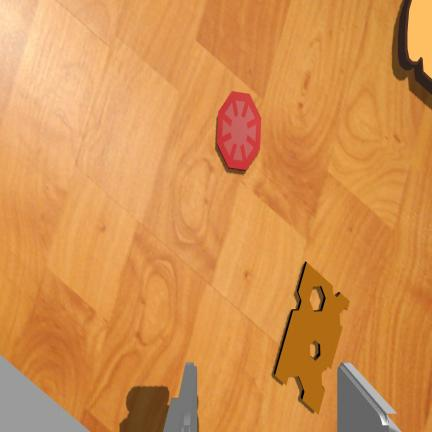cheese: (274, 262, 349, 412)
sliced_bread: (398, 0, 432, 94)
sliced_tomato: (217, 92, 261, 170)
